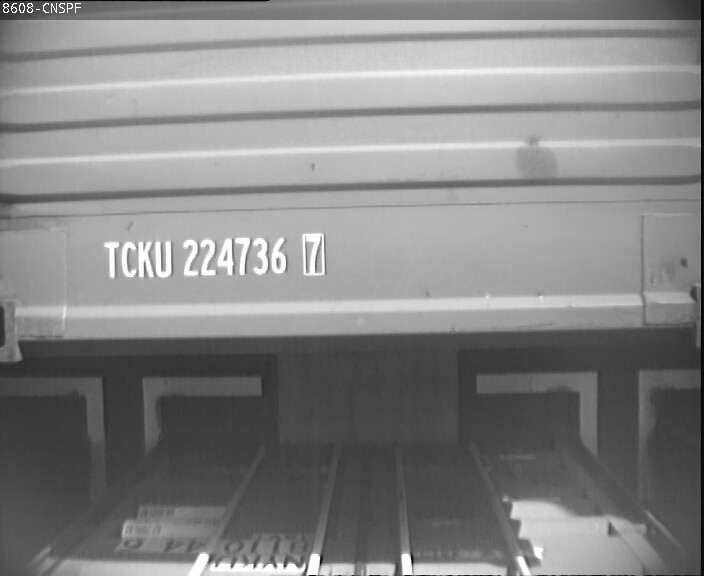groundmarker_1: (4, 377, 260, 509), (476, 365, 703, 496)
